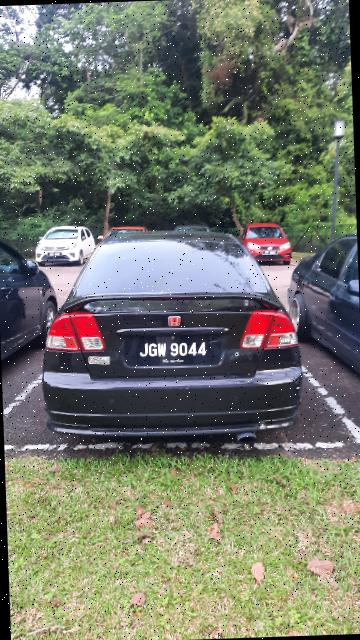License_Plate: (125, 327, 225, 371)
car: (36, 221, 313, 457)
